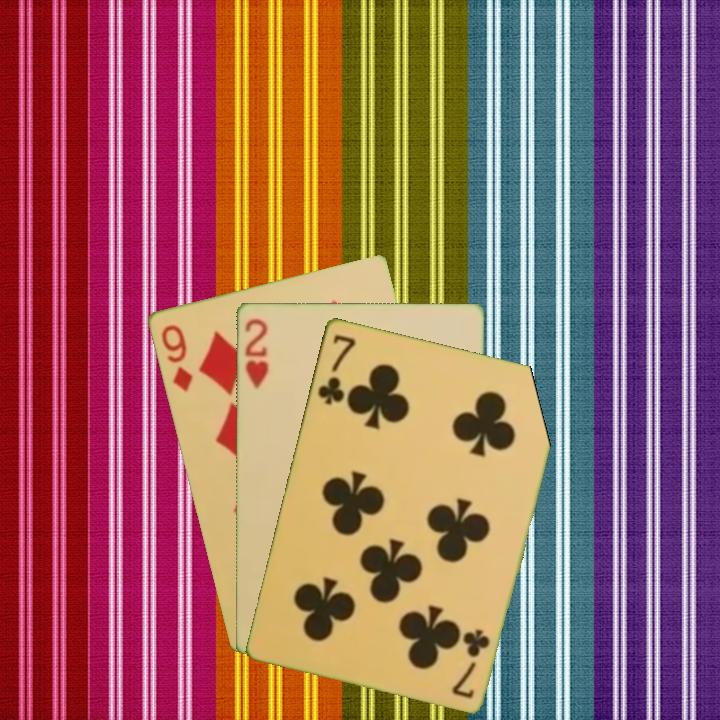2h: (241, 315, 271, 391)
7c: (314, 330, 358, 407), (450, 624, 493, 701)
9d: (157, 320, 195, 394)
